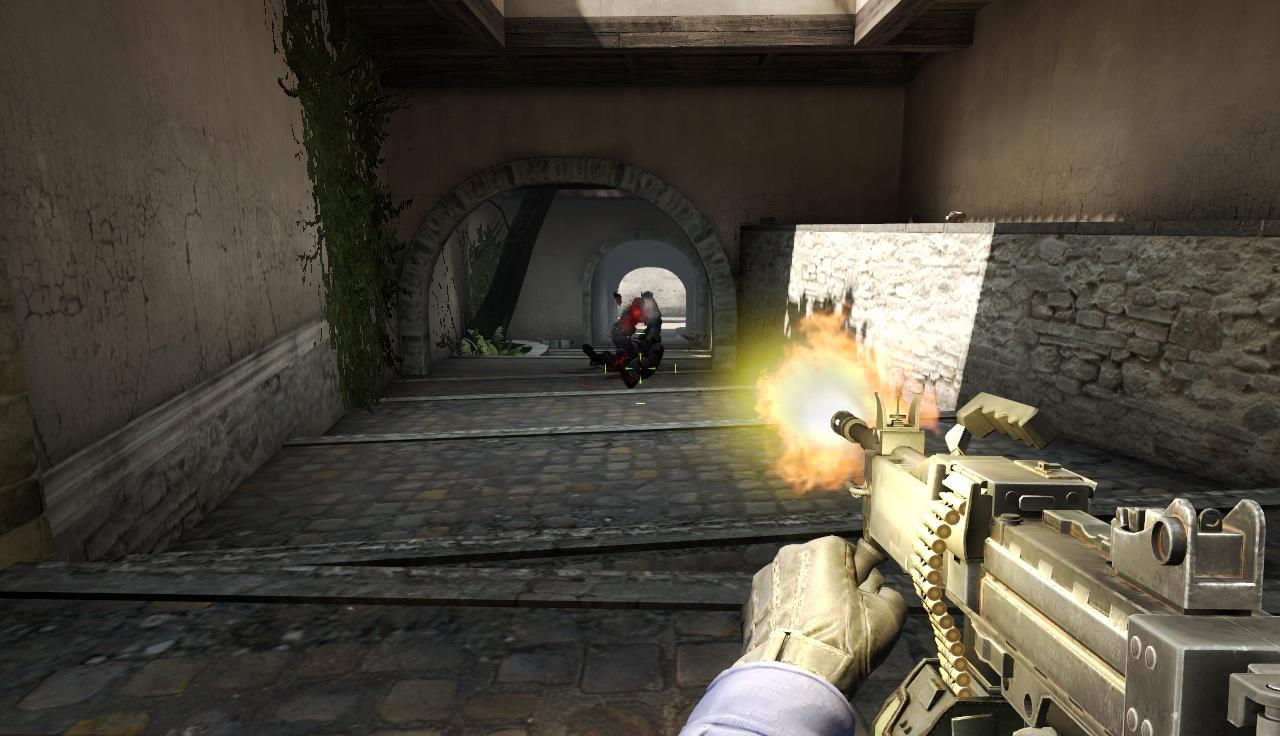rifle: (811, 387, 1280, 736)
